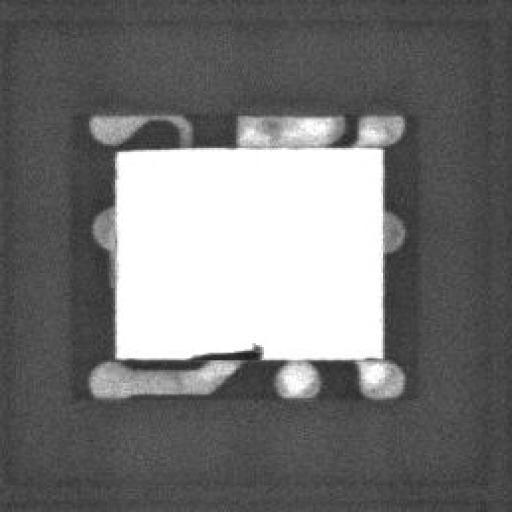DIE_BROKEN: (188, 338, 260, 360)
